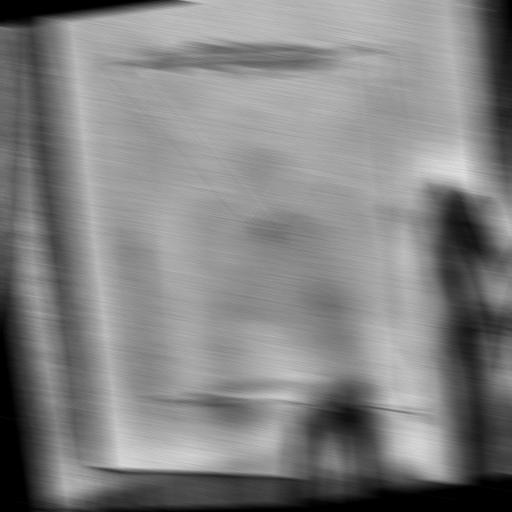bottom_right: (92, 460, 109, 473)
envelop: (99, 15, 434, 457)
